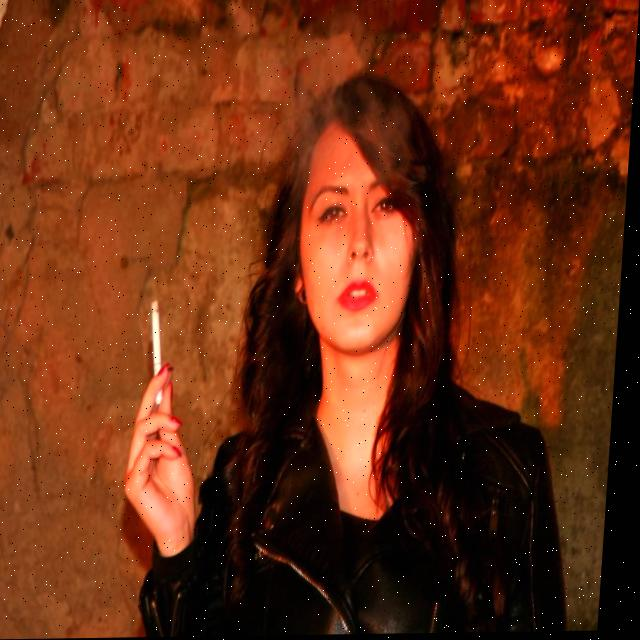cigarette: (150, 302, 175, 406)
